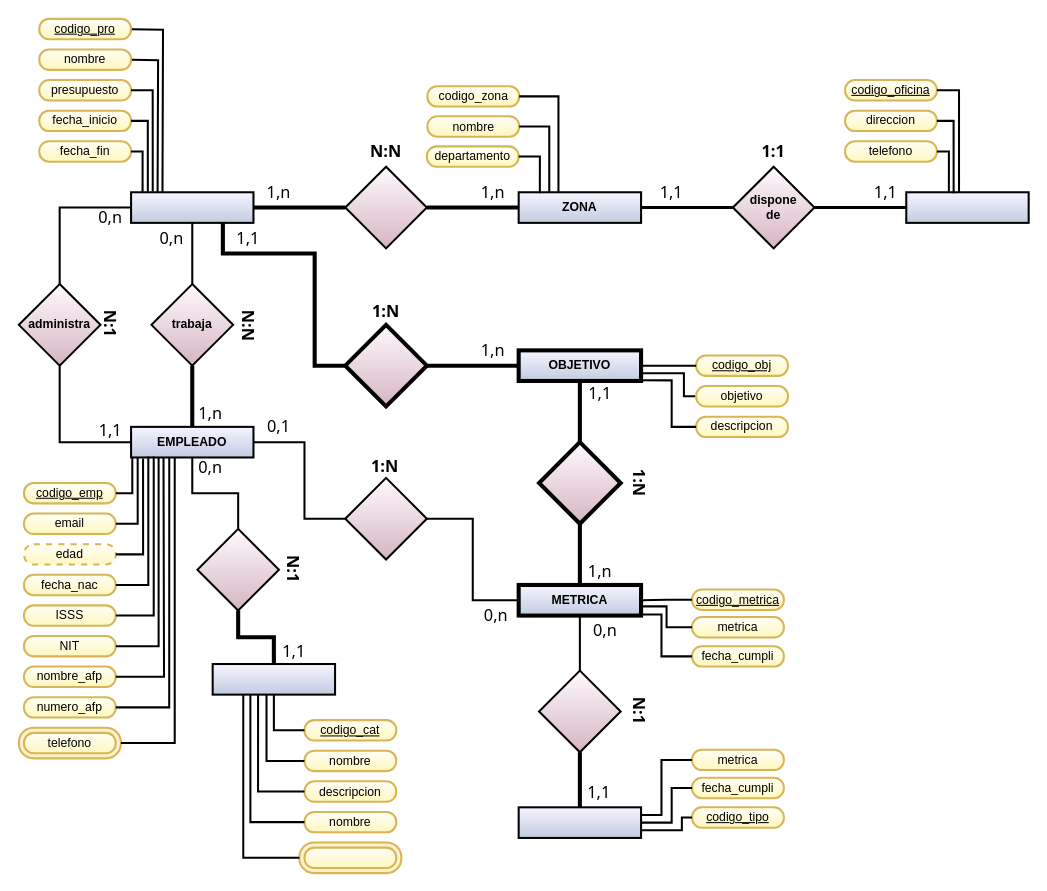
Image size: 1047x891. Some labels were removed from this diagram. Here are the shapes that lost their labels. From the top down, the centre of each, then its label:
At (x=192, y=207): "PROYECTO".
At (x=385, y=207): "se realiza en".
At (x=967, y=207): "OFICINA".
At (x=385, y=365): "tiene".
At (x=579, y=482): "se evalua con".
At (x=385, y=518): "actualiza".
At (x=237, y=569): "mantiene".
At (x=273, y=678): "CATEGORIA".
At (x=579, y=711): "se califica segun".
At (x=579, y=822): "TIPO".
At (x=350, y=857): "responsabilidad".
